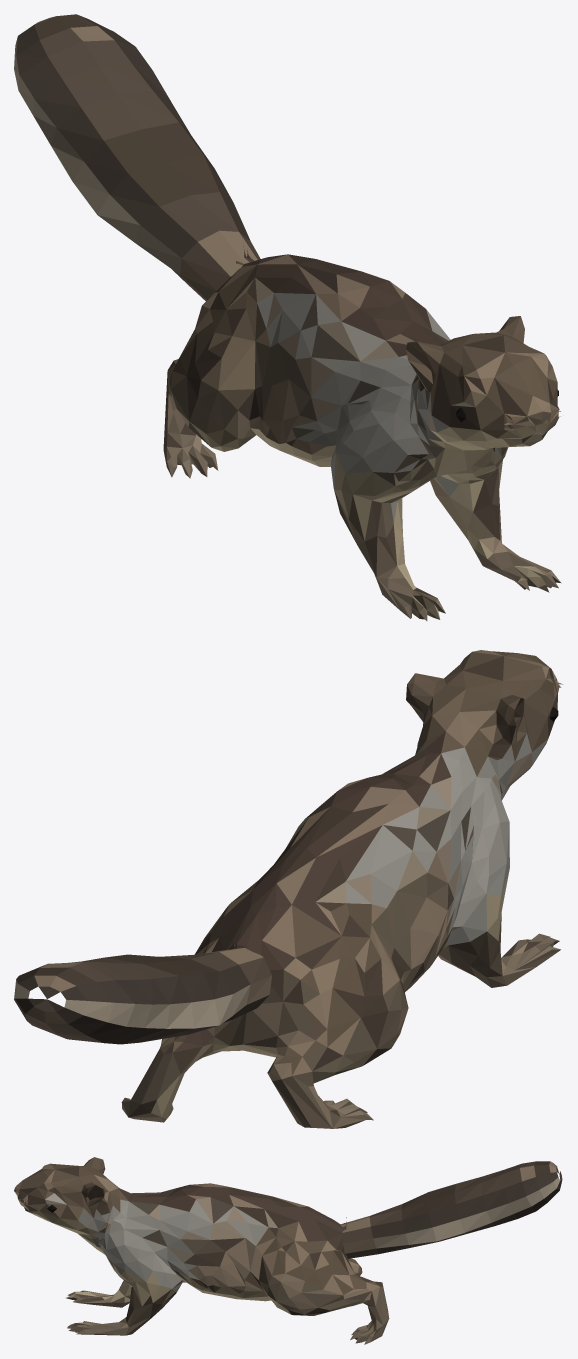
Rendered from ground_squirrel.glb.
3 views of the same model, one above another, from view 1: azimuth 30°, elevation 25°; view 2: azimuth 150°, elevation 25°; view 3: azimuth 270°, elevation 25° (orthographic). The views are drawn at different scales.
Visible parts, largest first — view 1: lod0; view 2: lod0; view 3: lod0.
Part boxes in pixels (box(x1,y1,x2,y2)): lod0: box(14, 14, 561, 620); lod0: box(14, 650, 563, 1128); lod0: box(14, 1157, 562, 1344).
Size of what is drawn, in the model's own units: 0.1008 by 0.1331 by 0.43.
